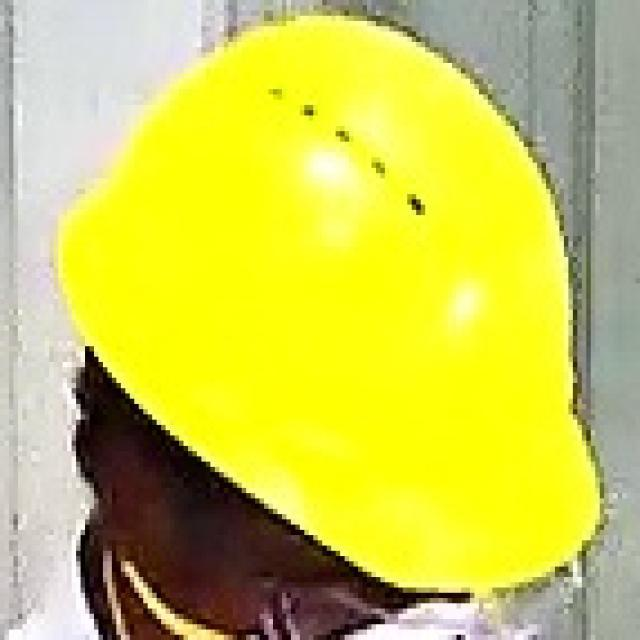yellow helmet: (51, 9, 626, 594)
